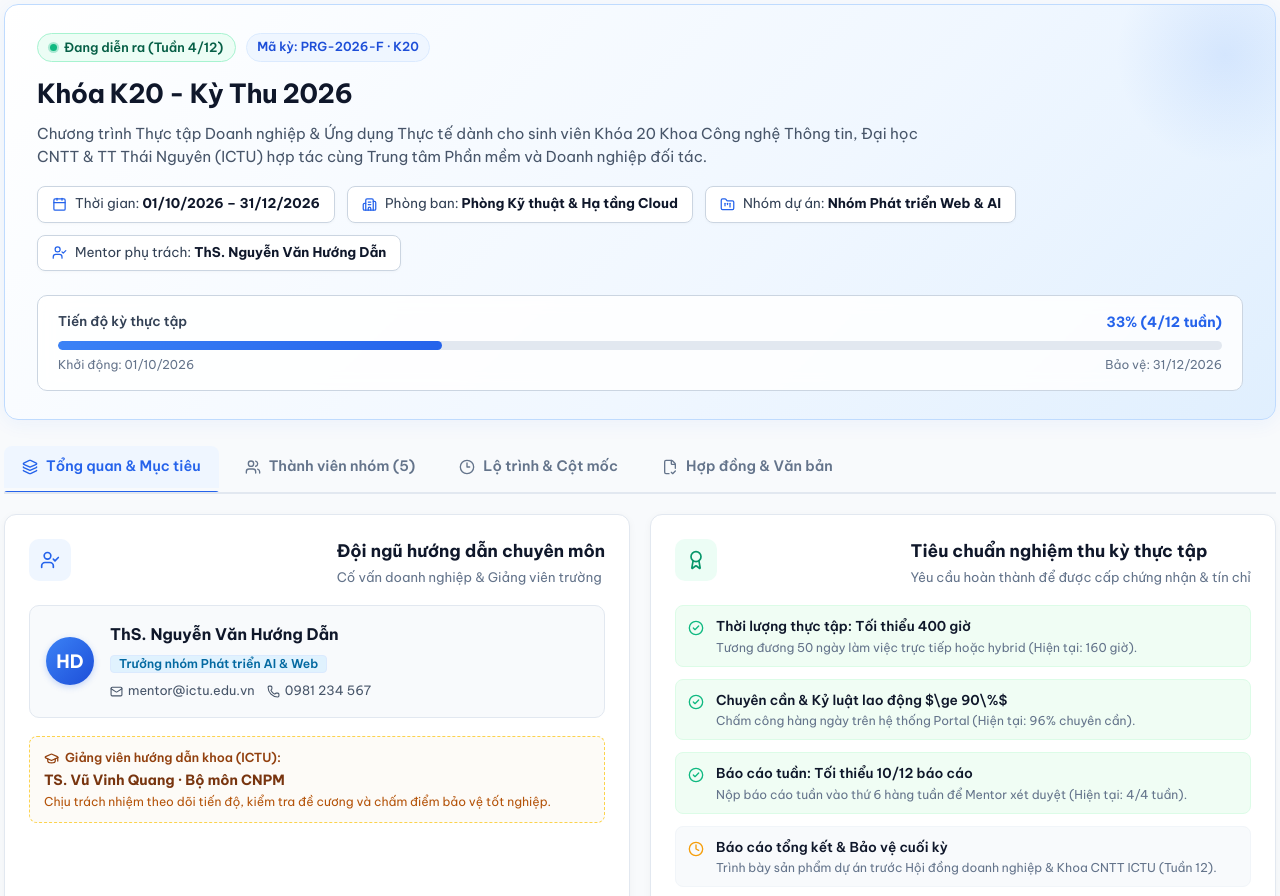
Test: InternProgramPage Component Test Suite (Tab Kỳ thực tập của TTS) › 5. Chuyển sang tab "Lộ trình & Cột mốc": hiển thị 4 mốc thời gian 12 tuần
Step 1. Click the button "Lộ trình & Cột mốc" → click(539, 467), box 441,446 -> 636,488
(page scrolled)
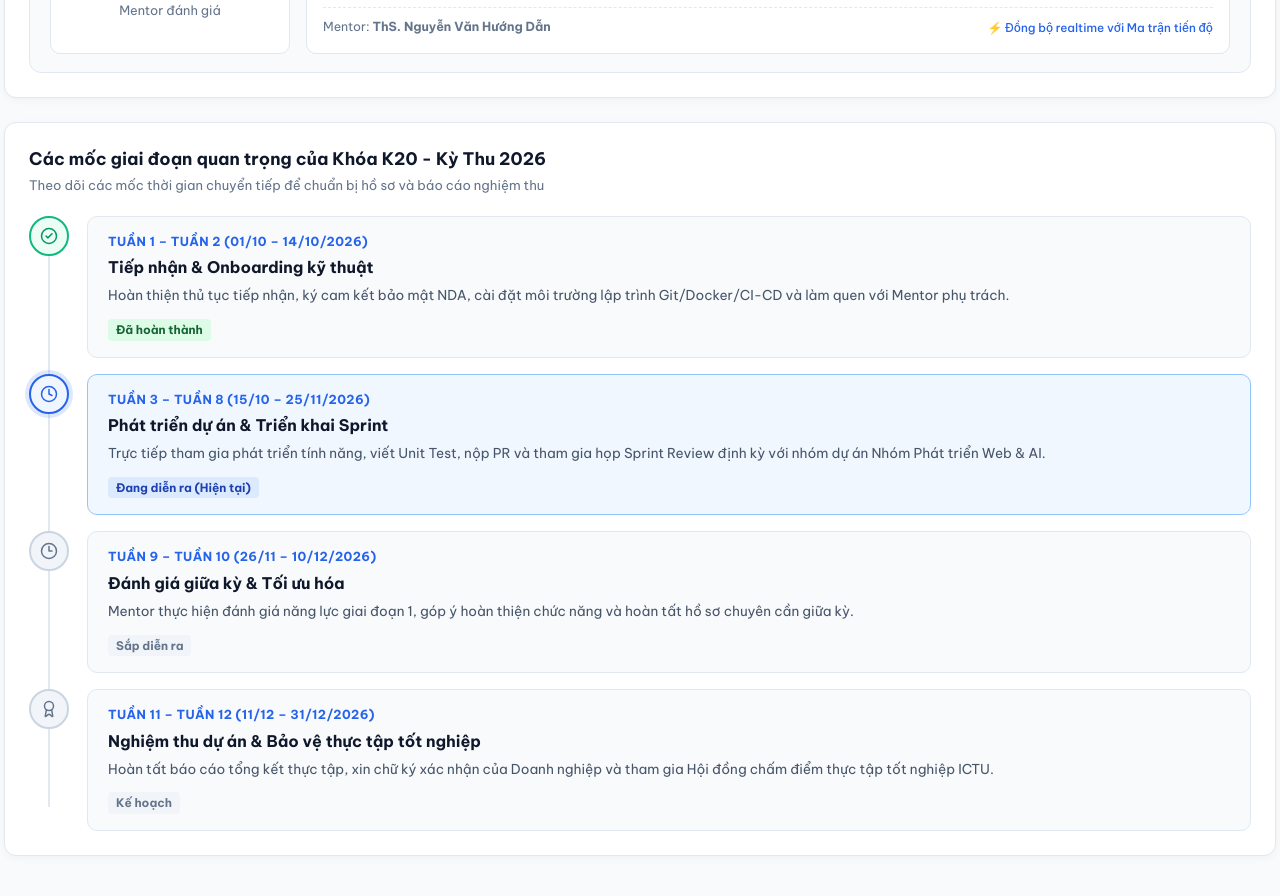
expect the heading "Tiếp nhận & Onboarding kỹ thuật" is shown: met, box 108,257 -> 374,277
expect the heading "Phát triển dự án & Triển khai Sprint" is shown: met, box 108,415 -> 388,435
expect the heading "Đánh giá giữa kỳ & Tối ưu hóa" is shown: met, box 108,573 -> 345,593
